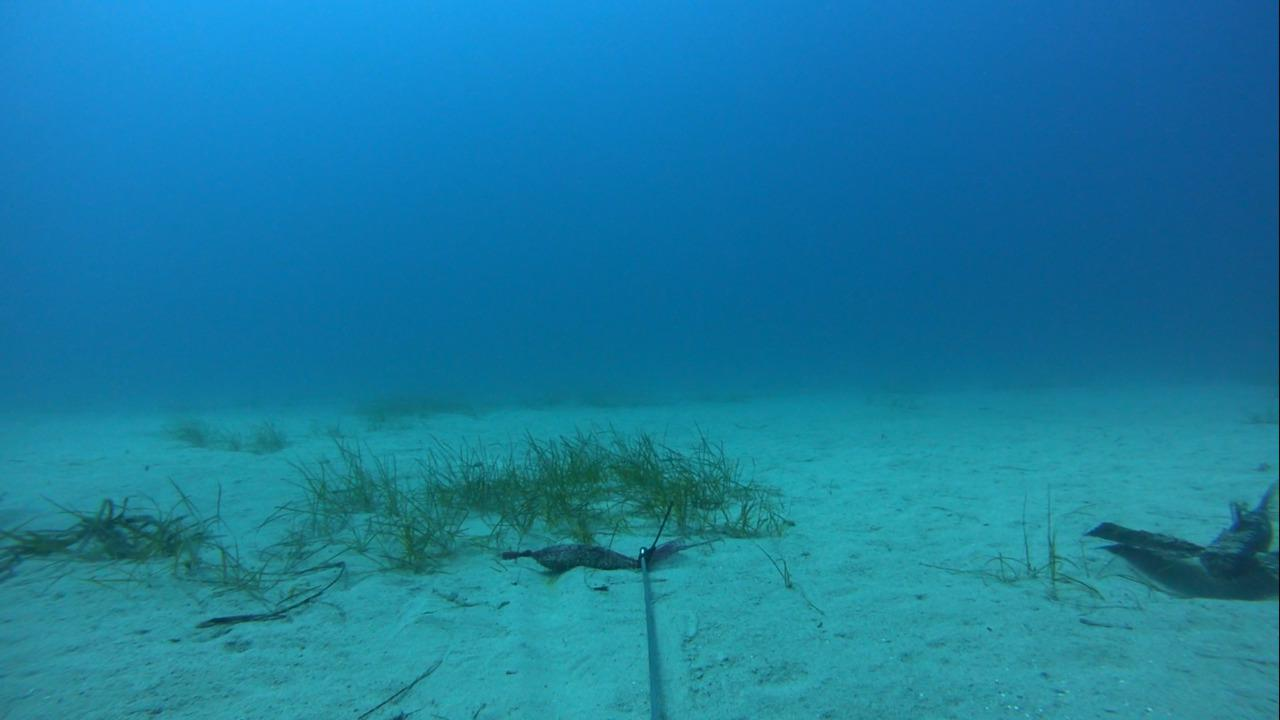dactylopterus: (1086, 482, 1277, 600)
